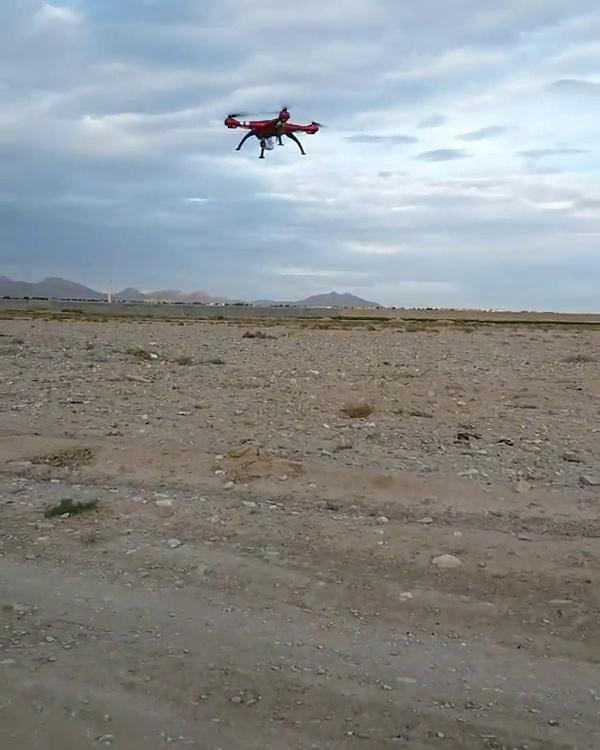drone: (216, 105, 325, 162)
